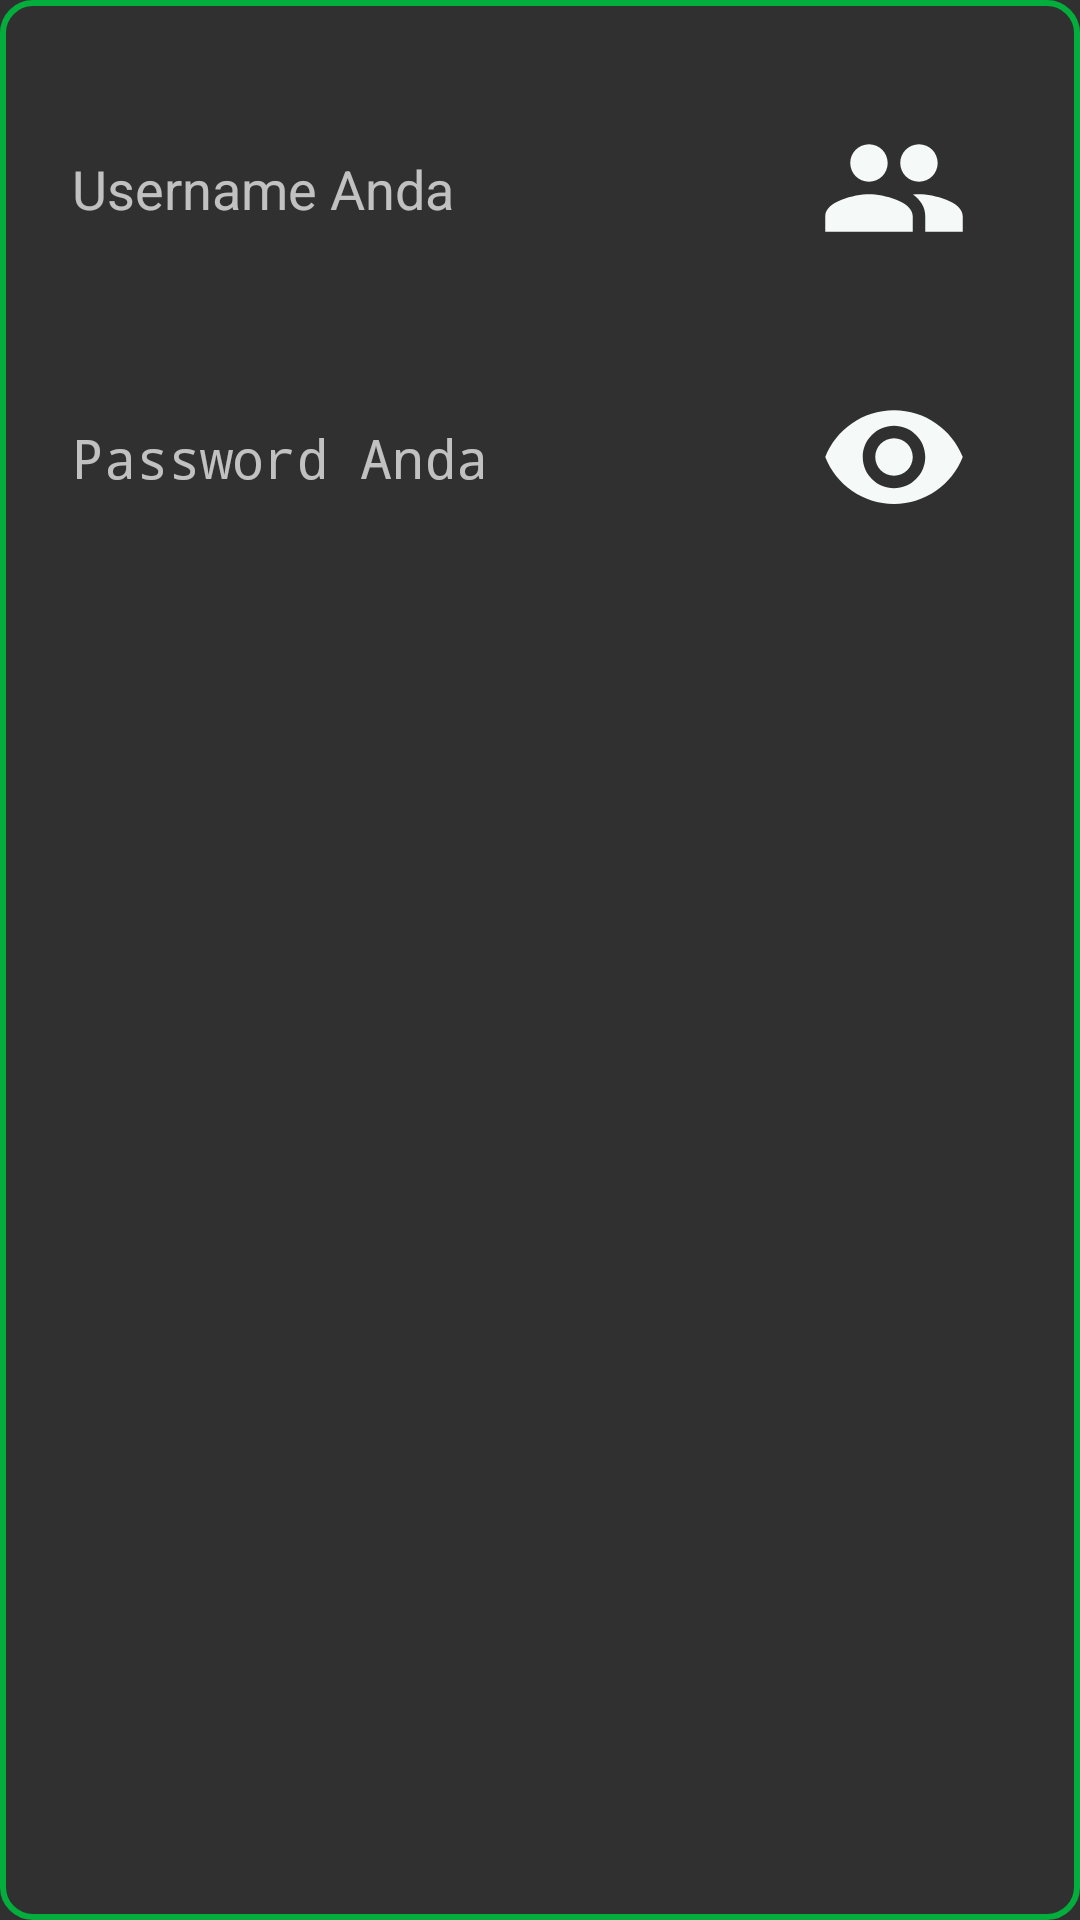

Locate icon controls on the screen. Image size 1080 x 1920, boxes as [left=x1, top=y1, right=x2, bottom=y2].
people: [left=825, top=144, right=963, bottom=232]
